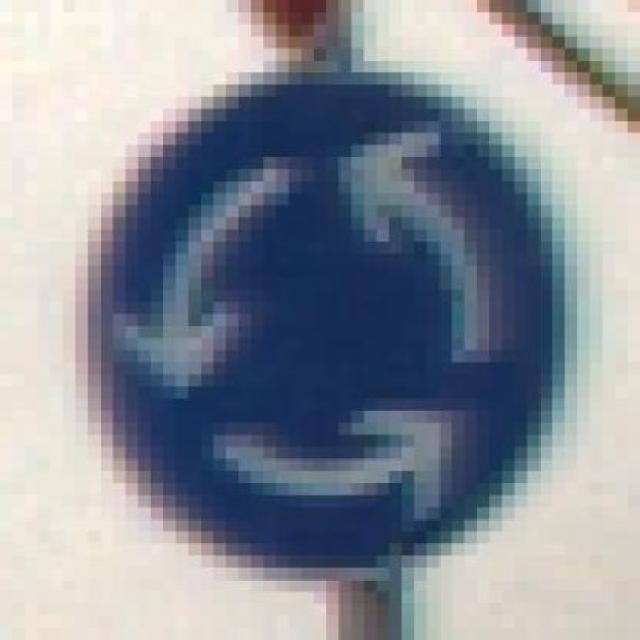Round-About: (88, 60, 577, 568)
